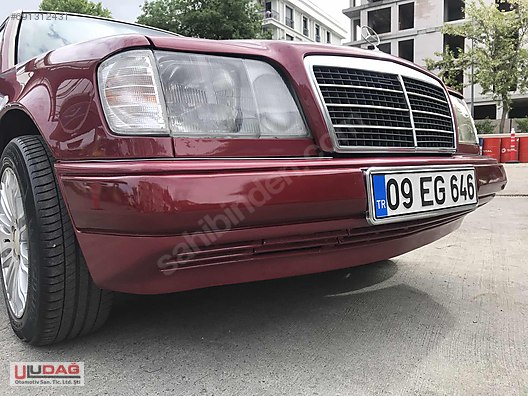mercedes: (1, 9, 500, 351)
